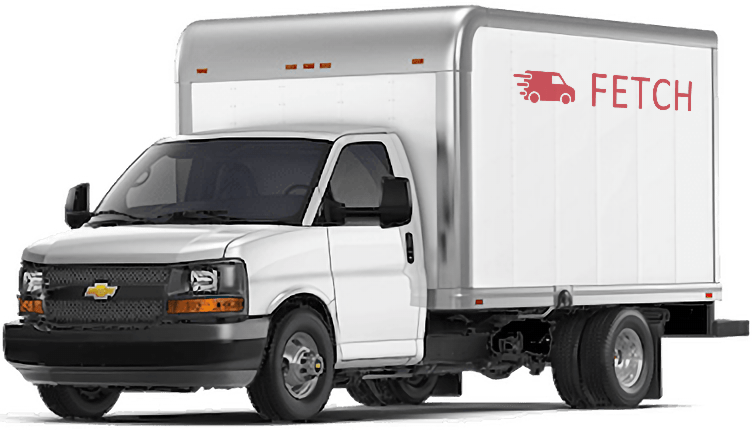truck: (3, 2, 749, 424)
